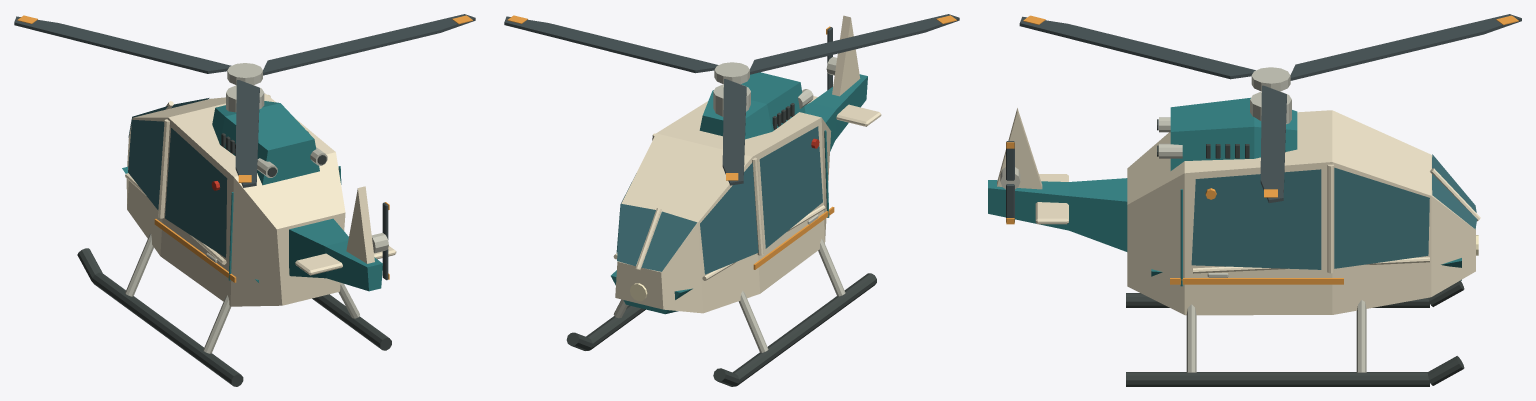
The model's file is helicopter.glb.
The picture shows the model from 3 angles, left to right: view 1: azimuth 30°, elevation 25°; view 2: azimuth 150°, elevation 25°; view 3: azimuth 270°, elevation 25°; orthographic projection. The views are drawn at different scales.
Visible parts, largest first — view 1: HelicopterModel Warm cream, HelicopterModel Deep teal enamel, MainRotor Blade graphite, HelicopterModel Teal canopy, HelicopterModel Dark grille, HelicopterModel Warm alloy, Main rotor hub, HelicopterModel Amber lamp, TailRotor Blade graphite; view 2: HelicopterModel Warm cream, HelicopterModel Teal canopy, MainRotor Blade graphite, HelicopterModel Deep teal enamel, HelicopterModel Dark grille, HelicopterModel Warm alloy, Main rotor hub, HelicopterModel Amber lamp; view 3: HelicopterModel Warm cream, HelicopterModel Teal canopy, HelicopterModel Deep teal enamel, MainRotor Blade graphite, HelicopterModel Dark grille, HelicopterModel Warm alloy, HelicopterModel Amber lamp, Main rotor hub, TailRotor Blade graphite.
Boxes of the visible parts, bbox=[...] form: HelicopterModel Warm cream: bbox=[125, 93, 396, 306]; HelicopterModel Deep teal enamel: bbox=[122, 101, 382, 291]; MainRotor Blade graphite: bbox=[14, 14, 475, 187]; HelicopterModel Teal canopy: bbox=[128, 98, 227, 257]; HelicopterModel Dark grille: bbox=[77, 131, 391, 386]; HelicopterModel Warm alloy: bbox=[125, 85, 359, 353]; Main rotor hub: bbox=[227, 63, 262, 85]; HelicopterModel Amber lamp: bbox=[154, 219, 236, 282]; TailRotor Blade graphite: bbox=[382, 202, 388, 280]; HelicopterModel Warm cream: bbox=[613, 15, 881, 313]; HelicopterModel Teal canopy: bbox=[616, 126, 822, 274]; MainRotor Blade graphite: bbox=[504, 14, 959, 185]; HelicopterModel Deep teal enamel: bbox=[611, 72, 867, 314]; HelicopterModel Dark grille: bbox=[566, 103, 876, 386]; HelicopterModel Warm alloy: bbox=[613, 84, 845, 352]; Main rotor hub: bbox=[714, 62, 749, 84]; HelicopterModel Amber lamp: bbox=[753, 206, 834, 269]; HelicopterModel Warm cream: bbox=[997, 108, 1480, 315]; HelicopterModel Teal canopy: bbox=[1191, 154, 1476, 269]; HelicopterModel Deep teal enamel: bbox=[988, 97, 1461, 286]; MainRotor Blade graphite: bbox=[1019, 14, 1521, 203]; HelicopterModel Dark grille: bbox=[1126, 119, 1464, 386]; HelicopterModel Warm alloy: bbox=[1159, 91, 1366, 372]; HelicopterModel Amber lamp: bbox=[1170, 188, 1343, 284]; Main rotor hub: bbox=[1251, 67, 1290, 91]; TailRotor Blade graphite: bbox=[1006, 141, 1014, 222].
Size of the model in its own units: 3.16 by 2.15 by 3.83.
